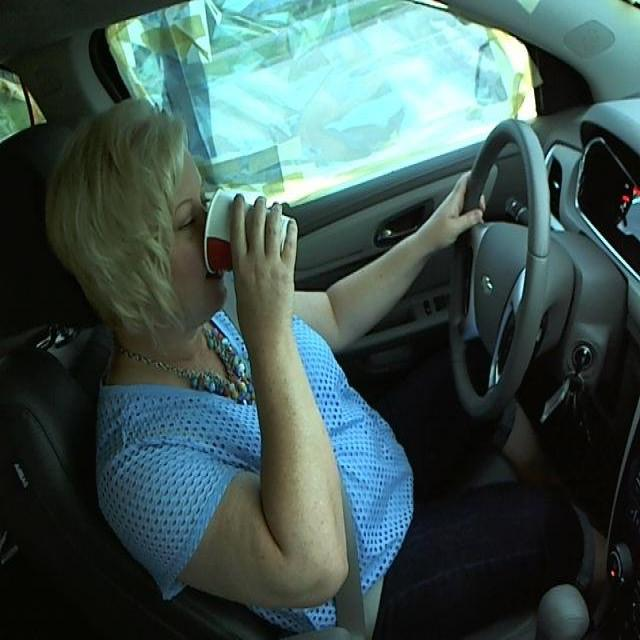drinking: (202, 182, 298, 290)
